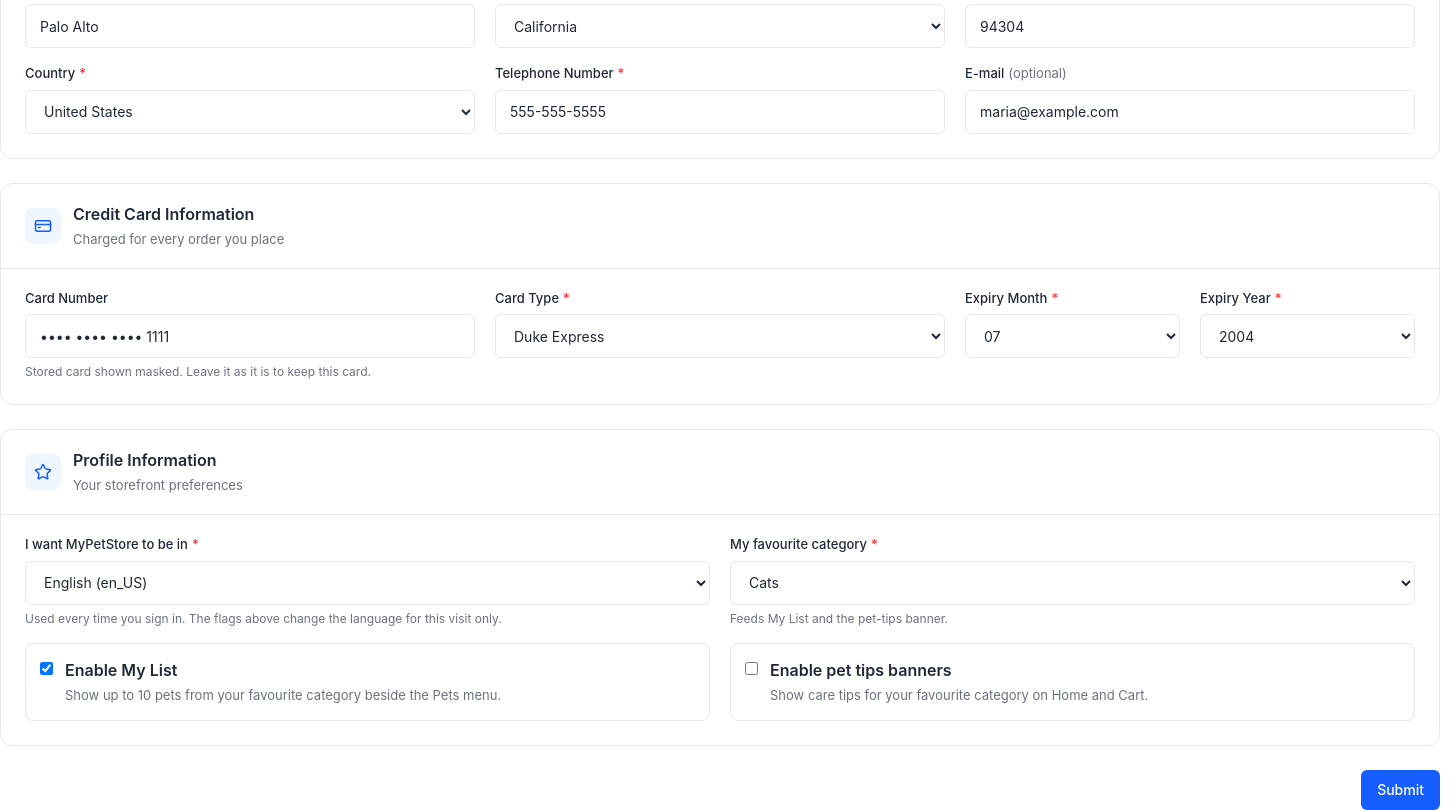
Test: AccountForm › [SWHR-C-0225] an empty First Name blocks submission with 'First Name is empty.'
(page scrolled)
Click the button "Submit": (1401, 790) x1=1361 y1=770 x2=1440 y2=809
(page scrolled)
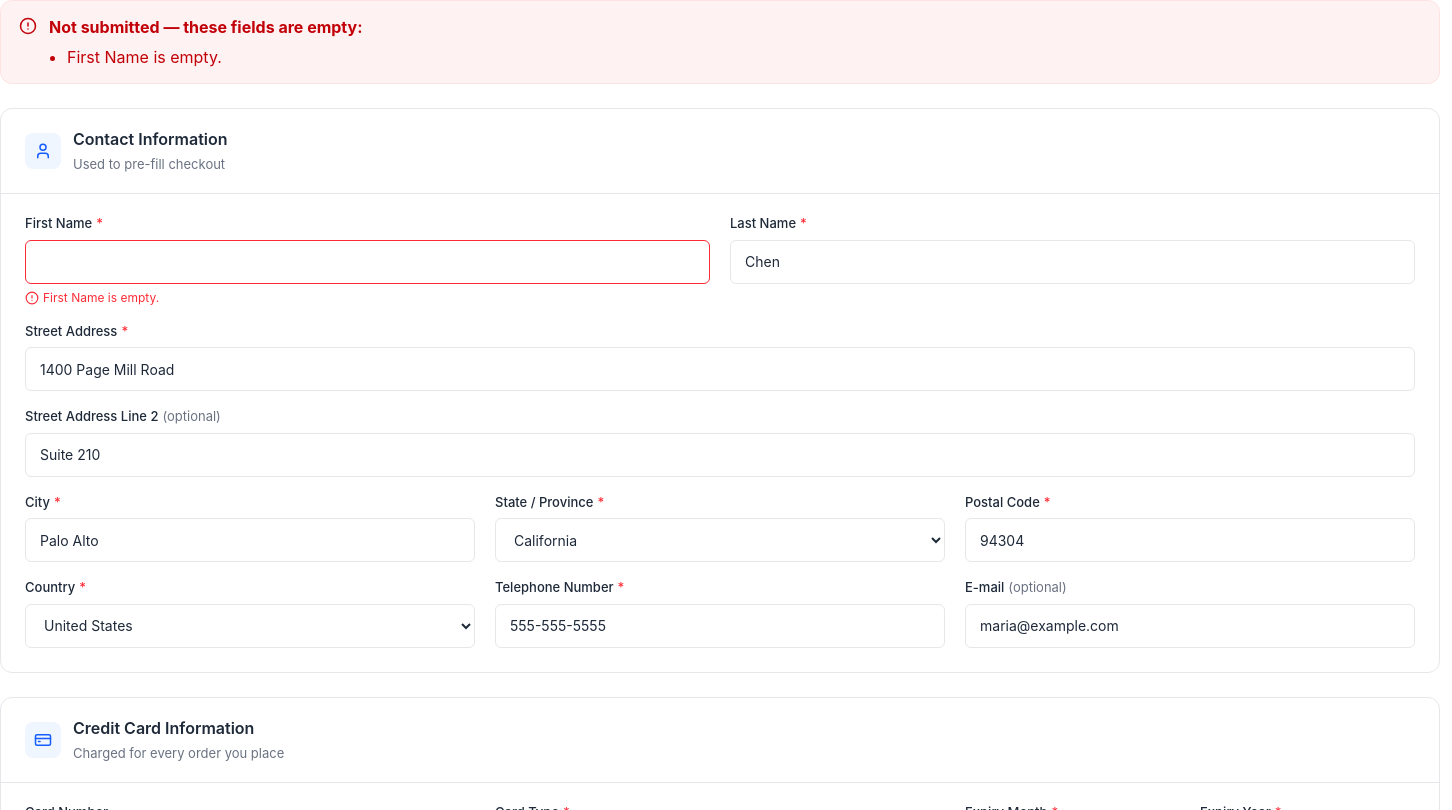
Expected: the list item "First Name is empty." is shown, x1=67 y1=47 x2=222 y2=67
